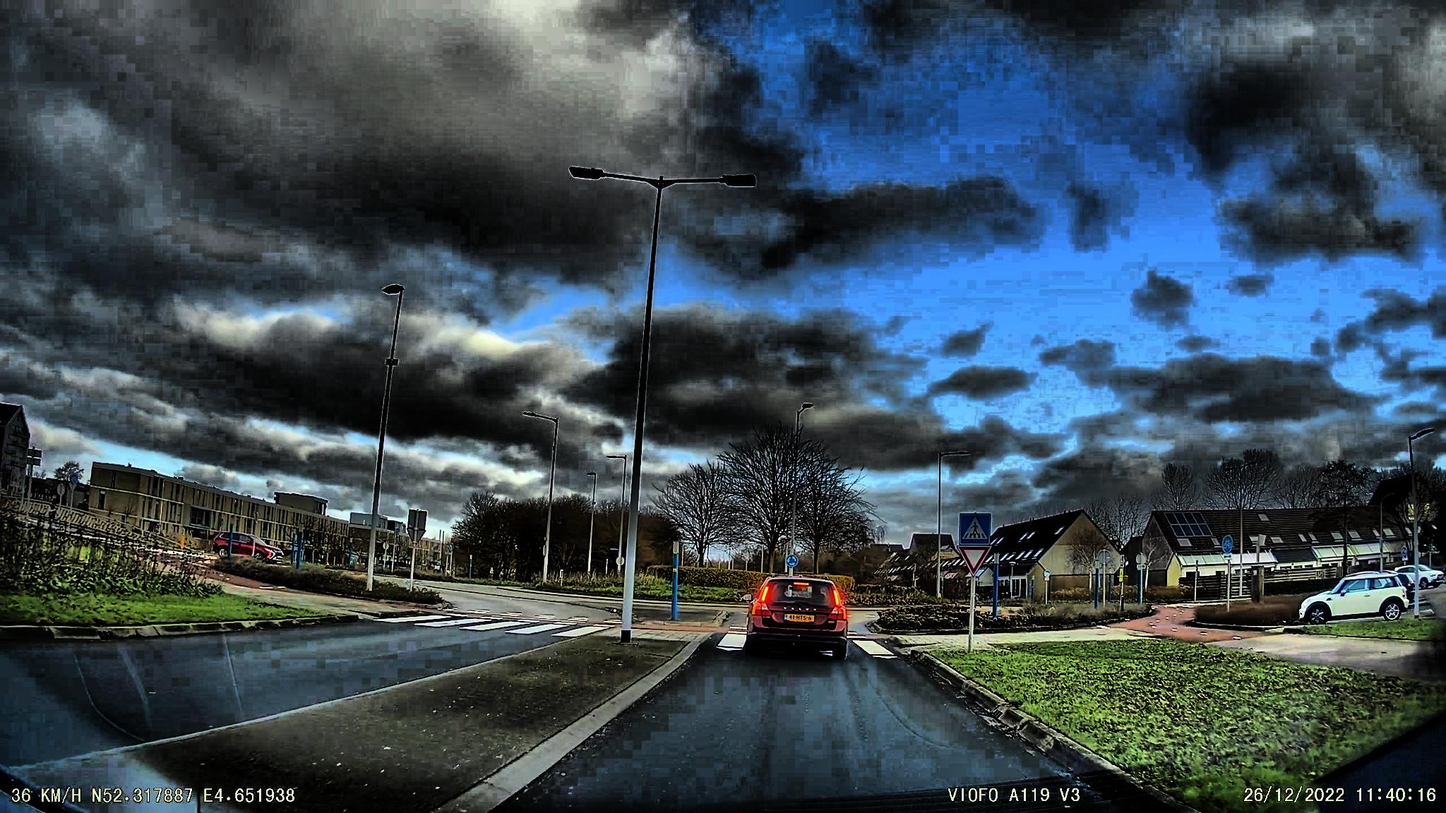Roads: (485, 610, 1177, 813), (0, 624, 553, 790)
